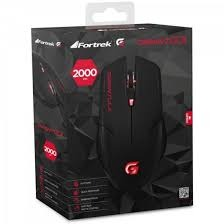mouse: (84, 48, 175, 194)
